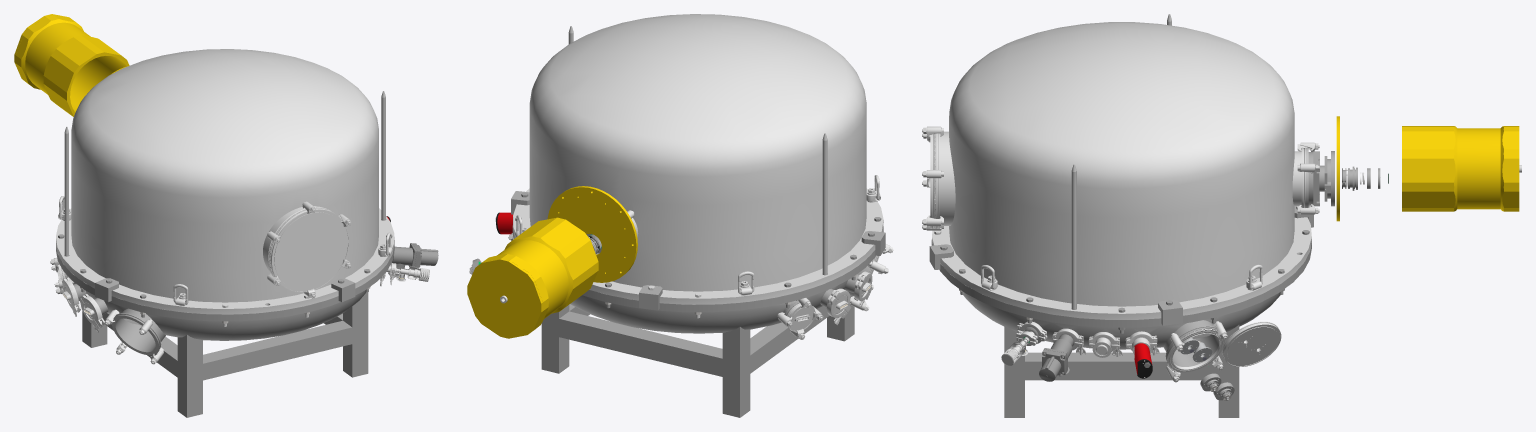
The model's file is night.glb.
3 views of the same model, side by side, from view 1: azimuth 30°, elevation 25°; view 2: azimuth 150°, elevation 25°; view 3: azimuth 270°, elevation 25° (orthographic). The views are drawn at different scales.
Visible parts, largest first — view 1: NIGHT; view 2: NIGHT; view 3: NIGHT.
Boxes of the visible parts, box(x1,y1,x2,y2) form: NIGHT: box(14, 14, 438, 417); NIGHT: box(467, 14, 893, 417); NIGHT: box(922, 14, 1521, 417).
Bounding box in the file's own units: 1.23 × 1 × 1.74.
